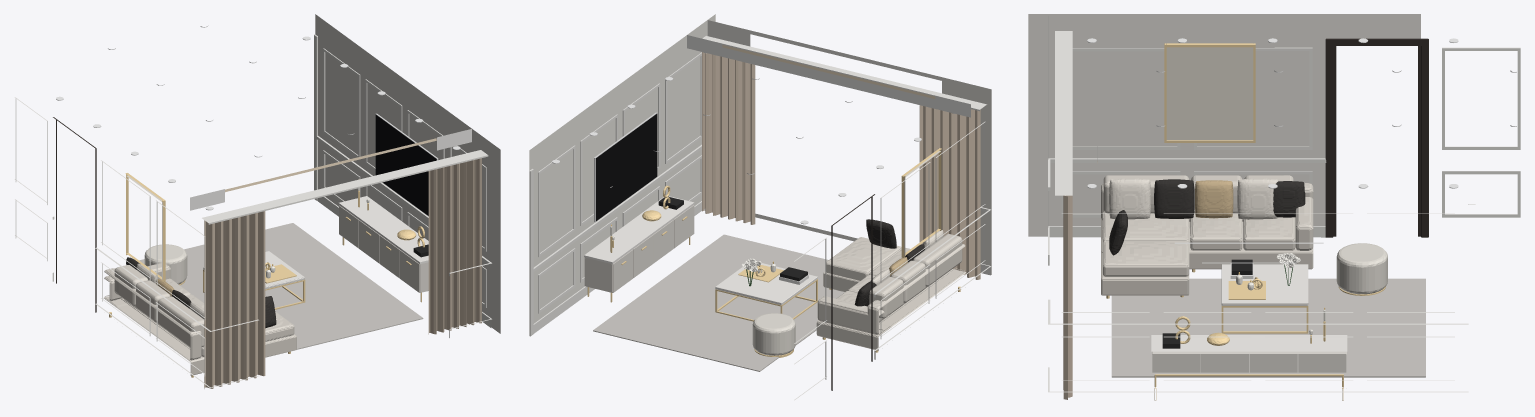
The model's file is LIVING.glb.
The picture shows the model from 3 angles, left to right: view 1: azimuth 30°, elevation 25°; view 2: azimuth 150°, elevation 25°; view 3: azimuth 270°, elevation 25°; orthographic projection. The views are drawn at different scales.
Parts seen in each view (by area): view 1: WEB_LIVING; view 2: WEB_LIVING; view 3: WEB_LIVING.
Part boxes in pixels (<box>): WEB_LIVING: <box>14,14,500,388</box>; WEB_LIVING: <box>529,14,991,400</box>; WEB_LIVING: <box>1028,14,1520,400</box>.
Size of the model in its own units: 4 by 2.5 by 5.01.
